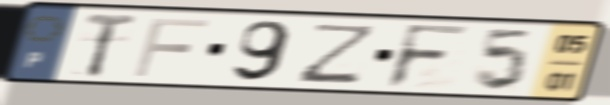5: (468, 26, 539, 92)
9: (229, 18, 293, 84)
F: (382, 22, 475, 91), (129, 15, 213, 80)
T: (81, 11, 141, 80)
Z: (292, 21, 383, 85)
